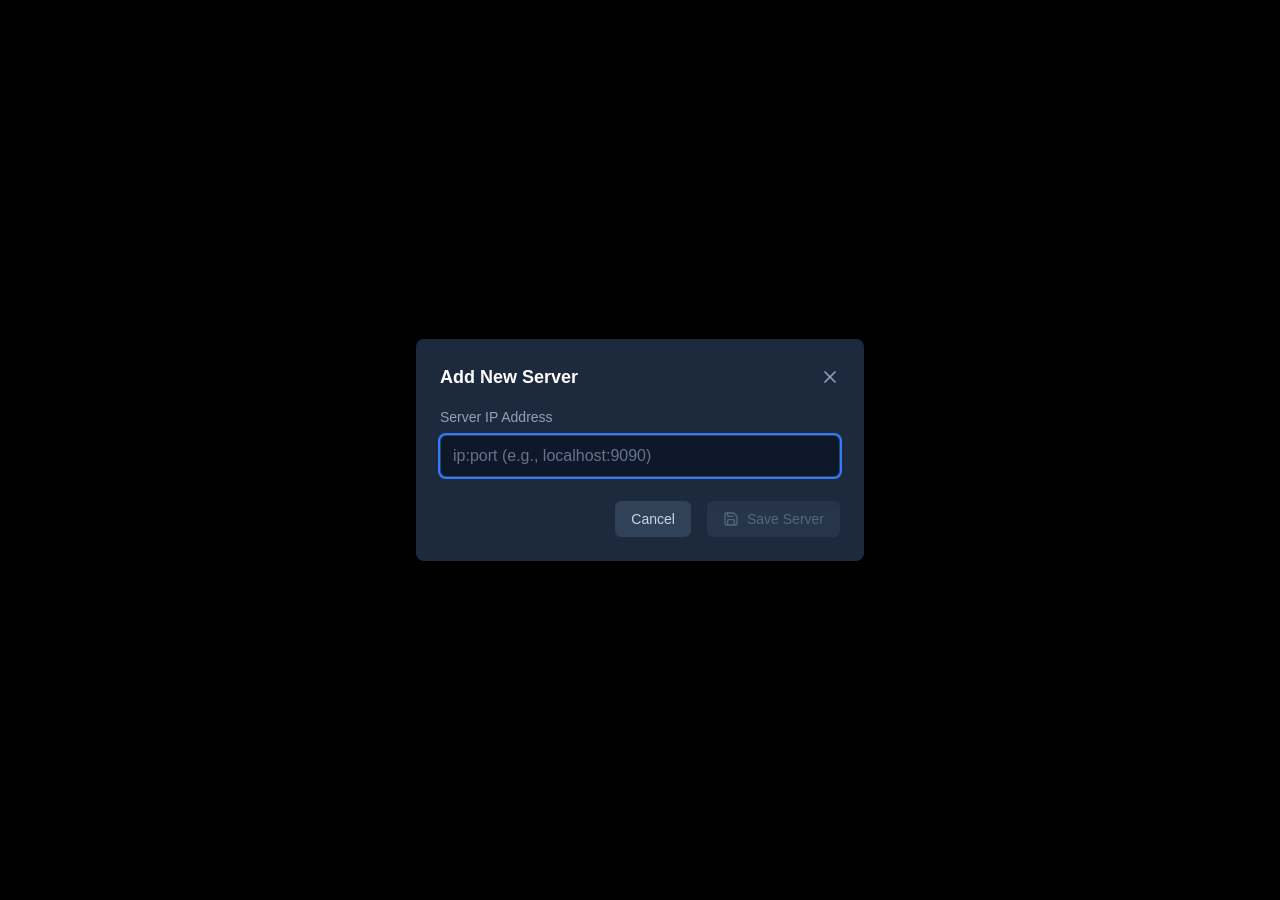
AddServerModal › blocks duplicate servers without running a healthcheck
Type "localhost:9090" into the field labelled "Server IP Address" at (640, 456), box 440,435 -> 840,477
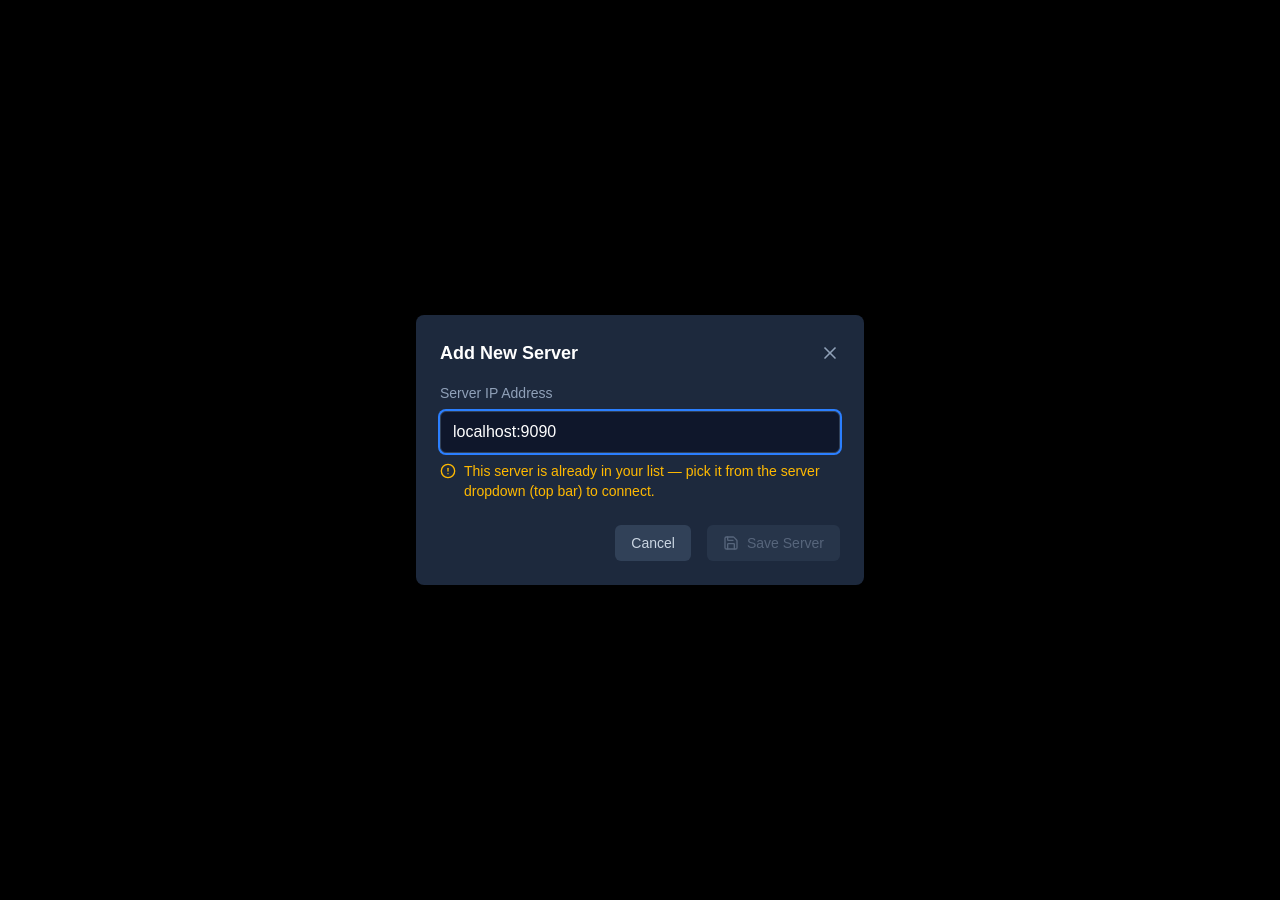
Expected: the button "Save Server" is disabled, 707,525 -> 840,561
Expected: the text "already in your list" is shown, 464,463 -> 820,499
